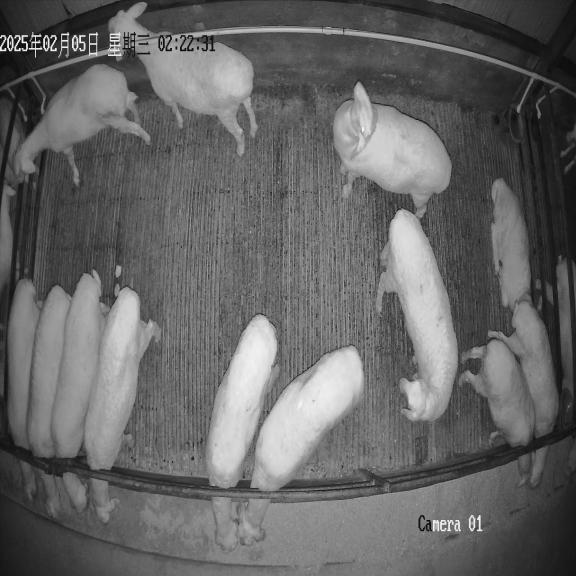eating: (238, 346, 364, 545), (84, 287, 161, 524), (205, 314, 278, 550), (51, 270, 108, 512), (488, 300, 559, 488), (459, 337, 535, 486), (27, 285, 71, 518), (7, 279, 42, 498)
lying: (491, 178, 531, 312)
stand: (108, 2, 257, 156), (376, 209, 458, 421), (14, 64, 150, 186), (333, 82, 451, 218)
